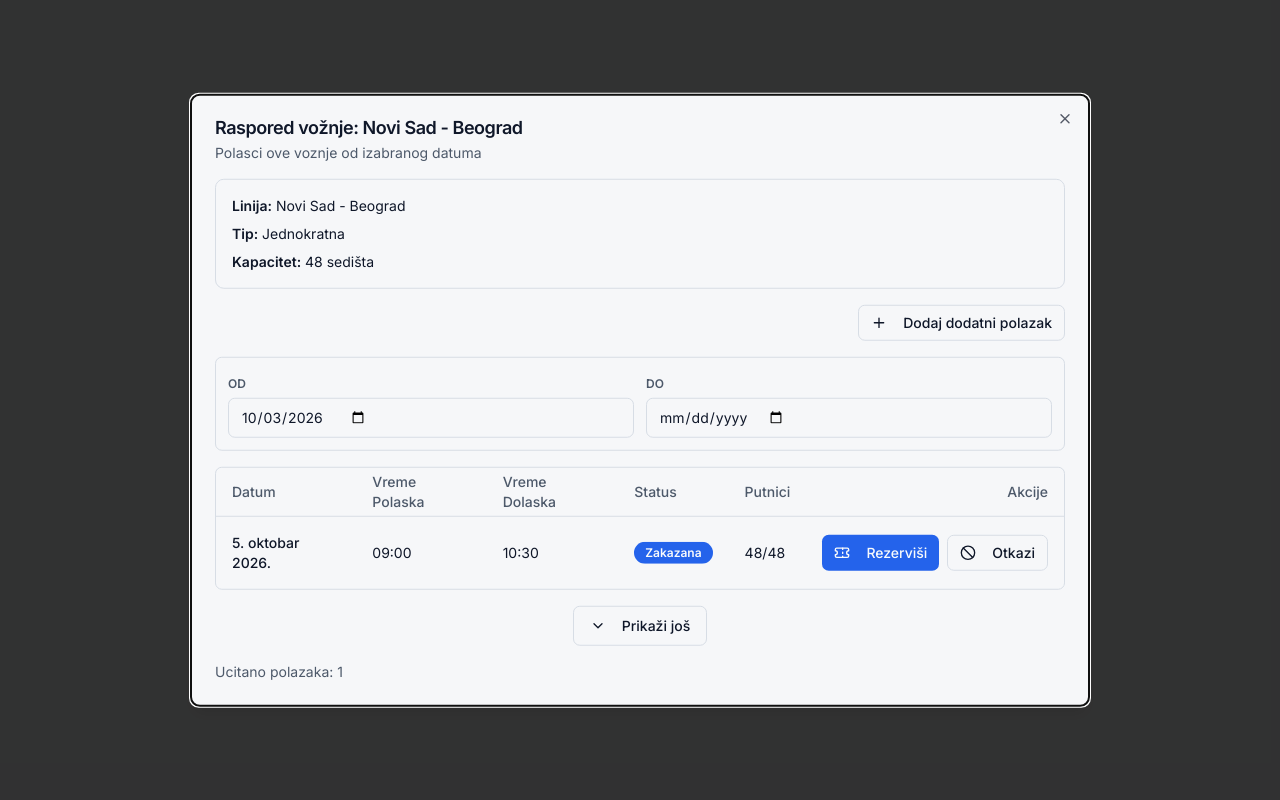
Test: RideInstancesView › departure operations (#27, PR 4c) › cancels, and asks first, rather than delete a one-time ride with passengers booked
Click the button with aria-label "Otkazi polazak 2026-10-05 u 09:00" at (998, 552), box [947, 534, 1048, 570]
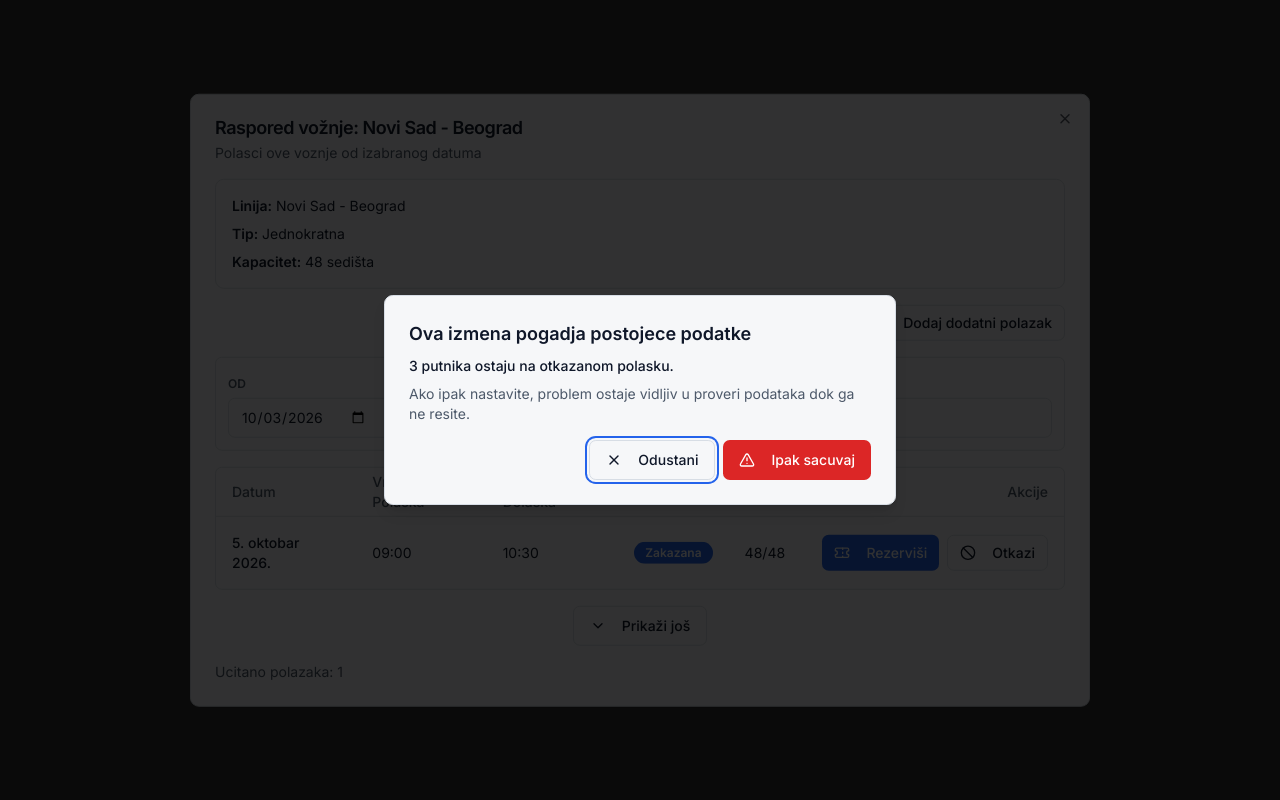
Expected: the text "3 putnika ostaju na otkazanom polasku." is shown, [409, 357, 674, 374]
